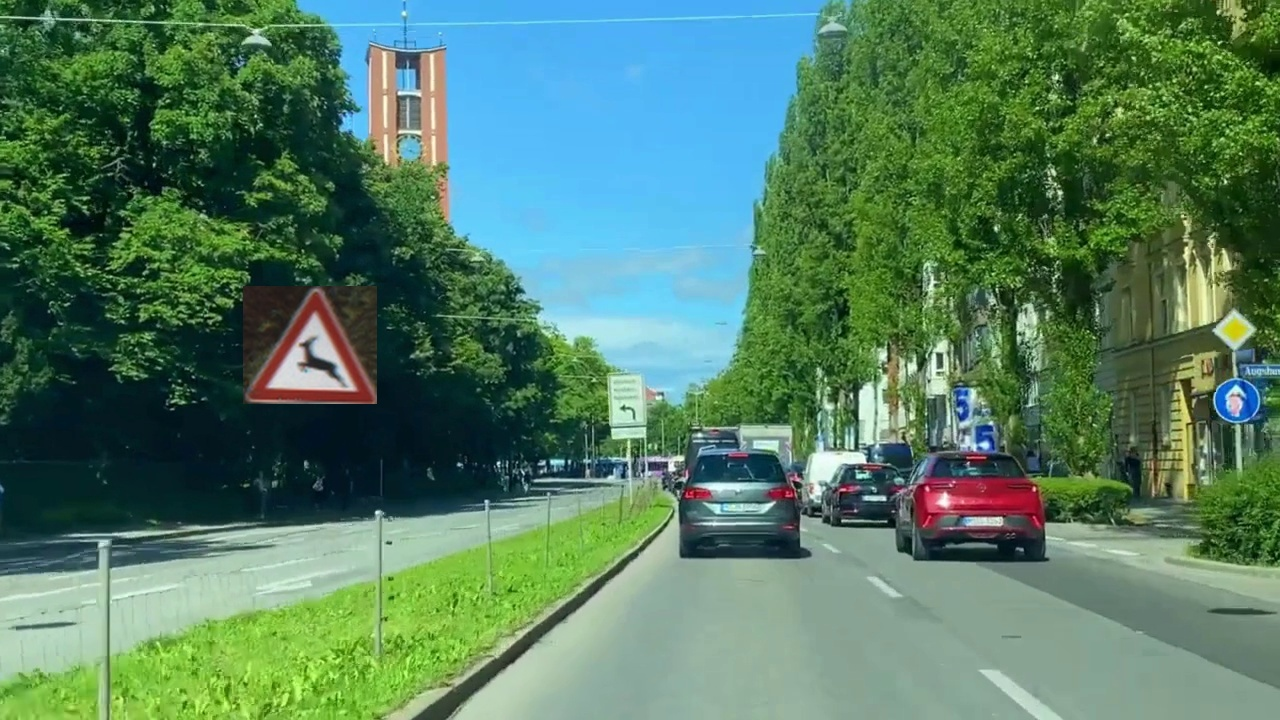Wild animals: (243, 286, 377, 404)
